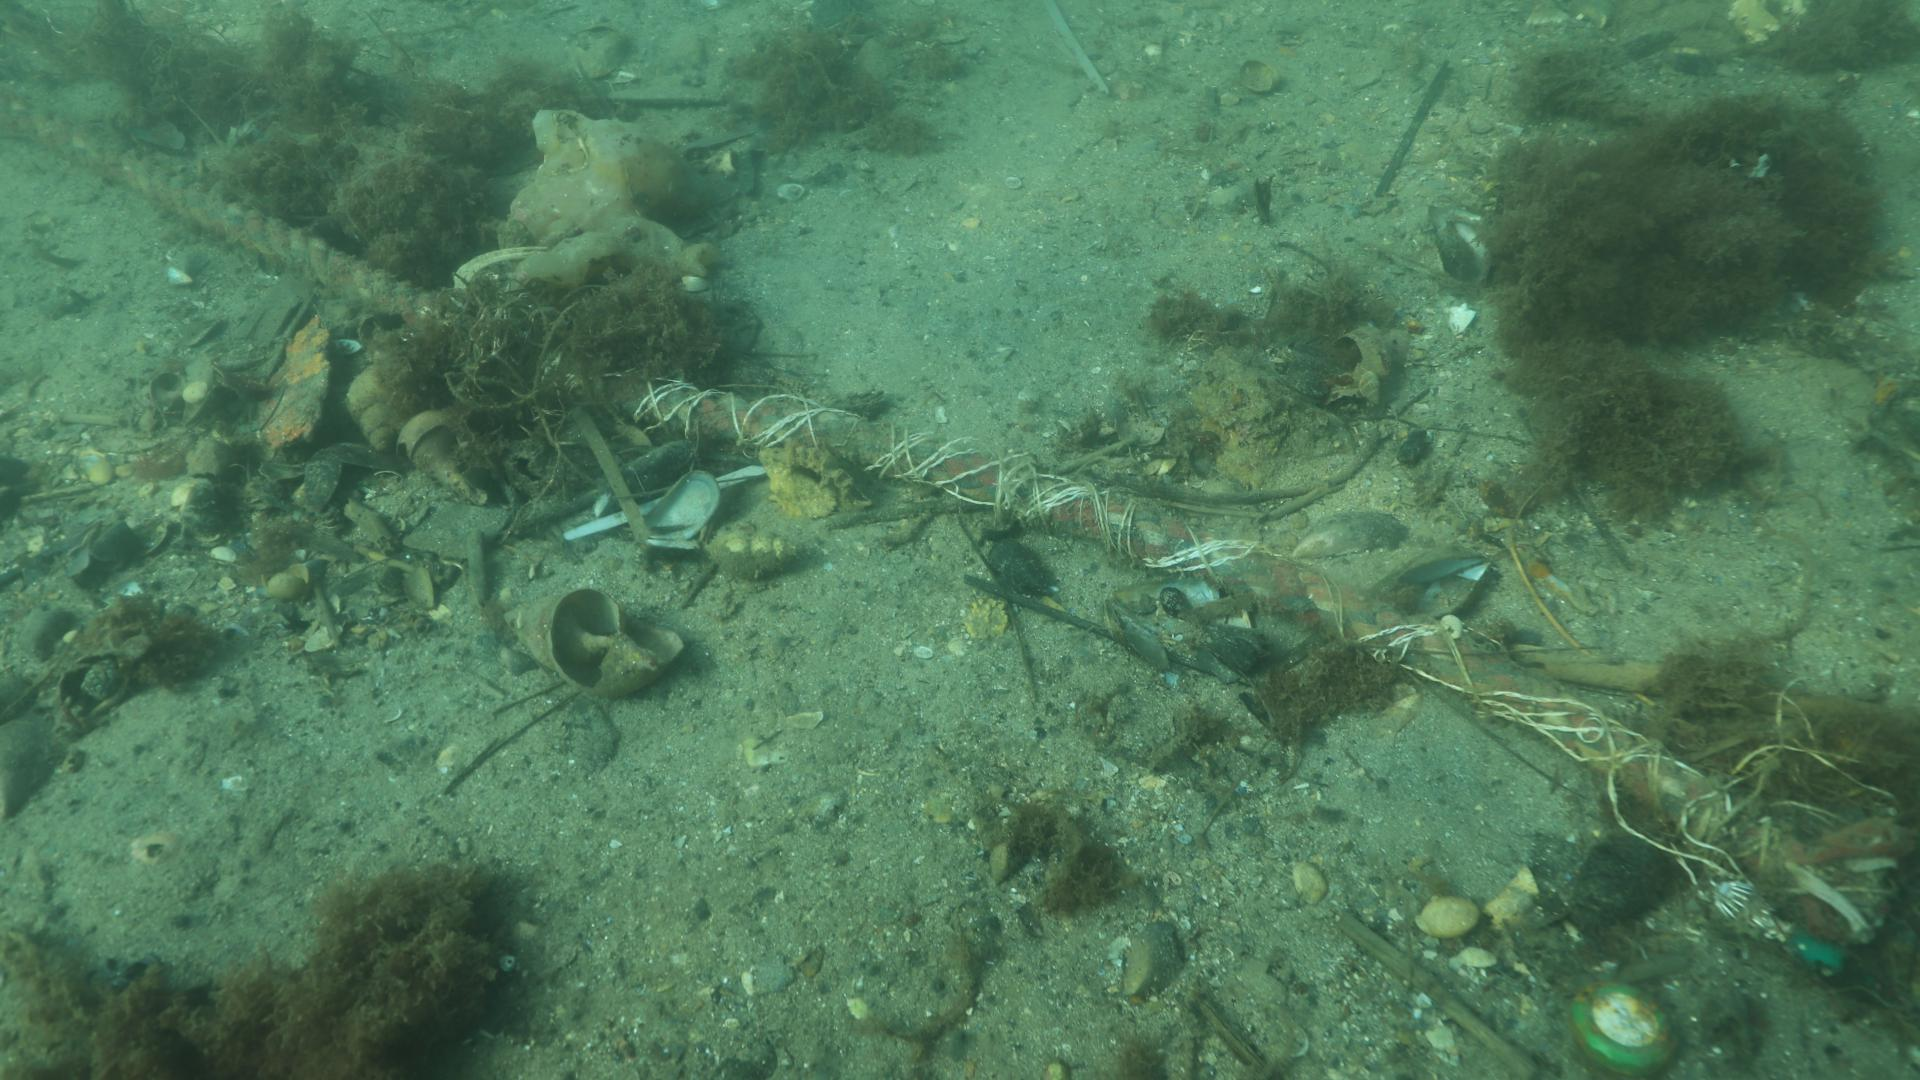rope: (3, 80, 1869, 935)
